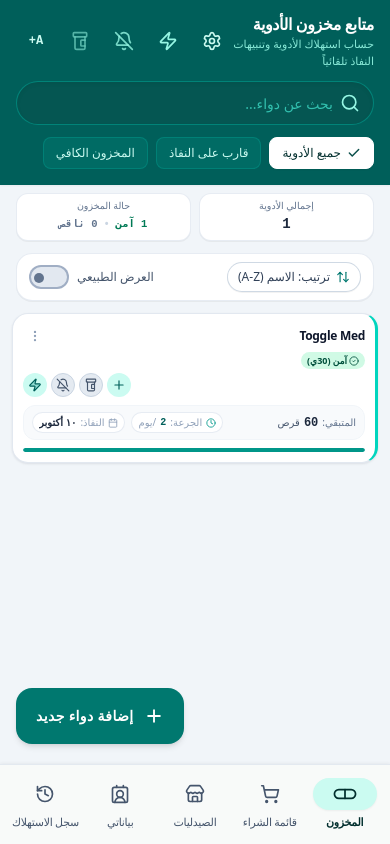
Test: handleToggleAutoDeduct — pure updater, no duplicate side effects › one toggle click shows the toast EXACTLY ONCE (no duplicate toasts under StrictMode)
The width and height of the screenshot is (390, 844).
Expected: the heading "Toggle Med" is shown, [299,327,365,344]
Click the button named "إيقاف الخصم التلقائي لهذا الدواء" at {"x": 35, "y": 385}, box [23,373,47,397]
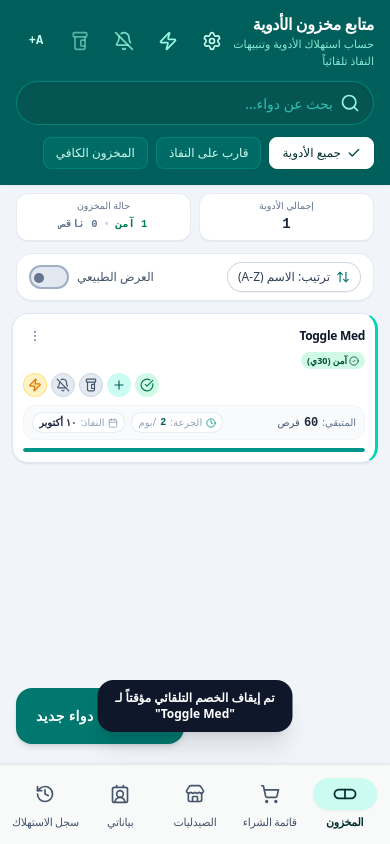
Expected: the text "تم إيقاف الخصم التلقائي مؤقتاً لـ \"Toggle Med\"" is shown once, [98,680,292,732]
